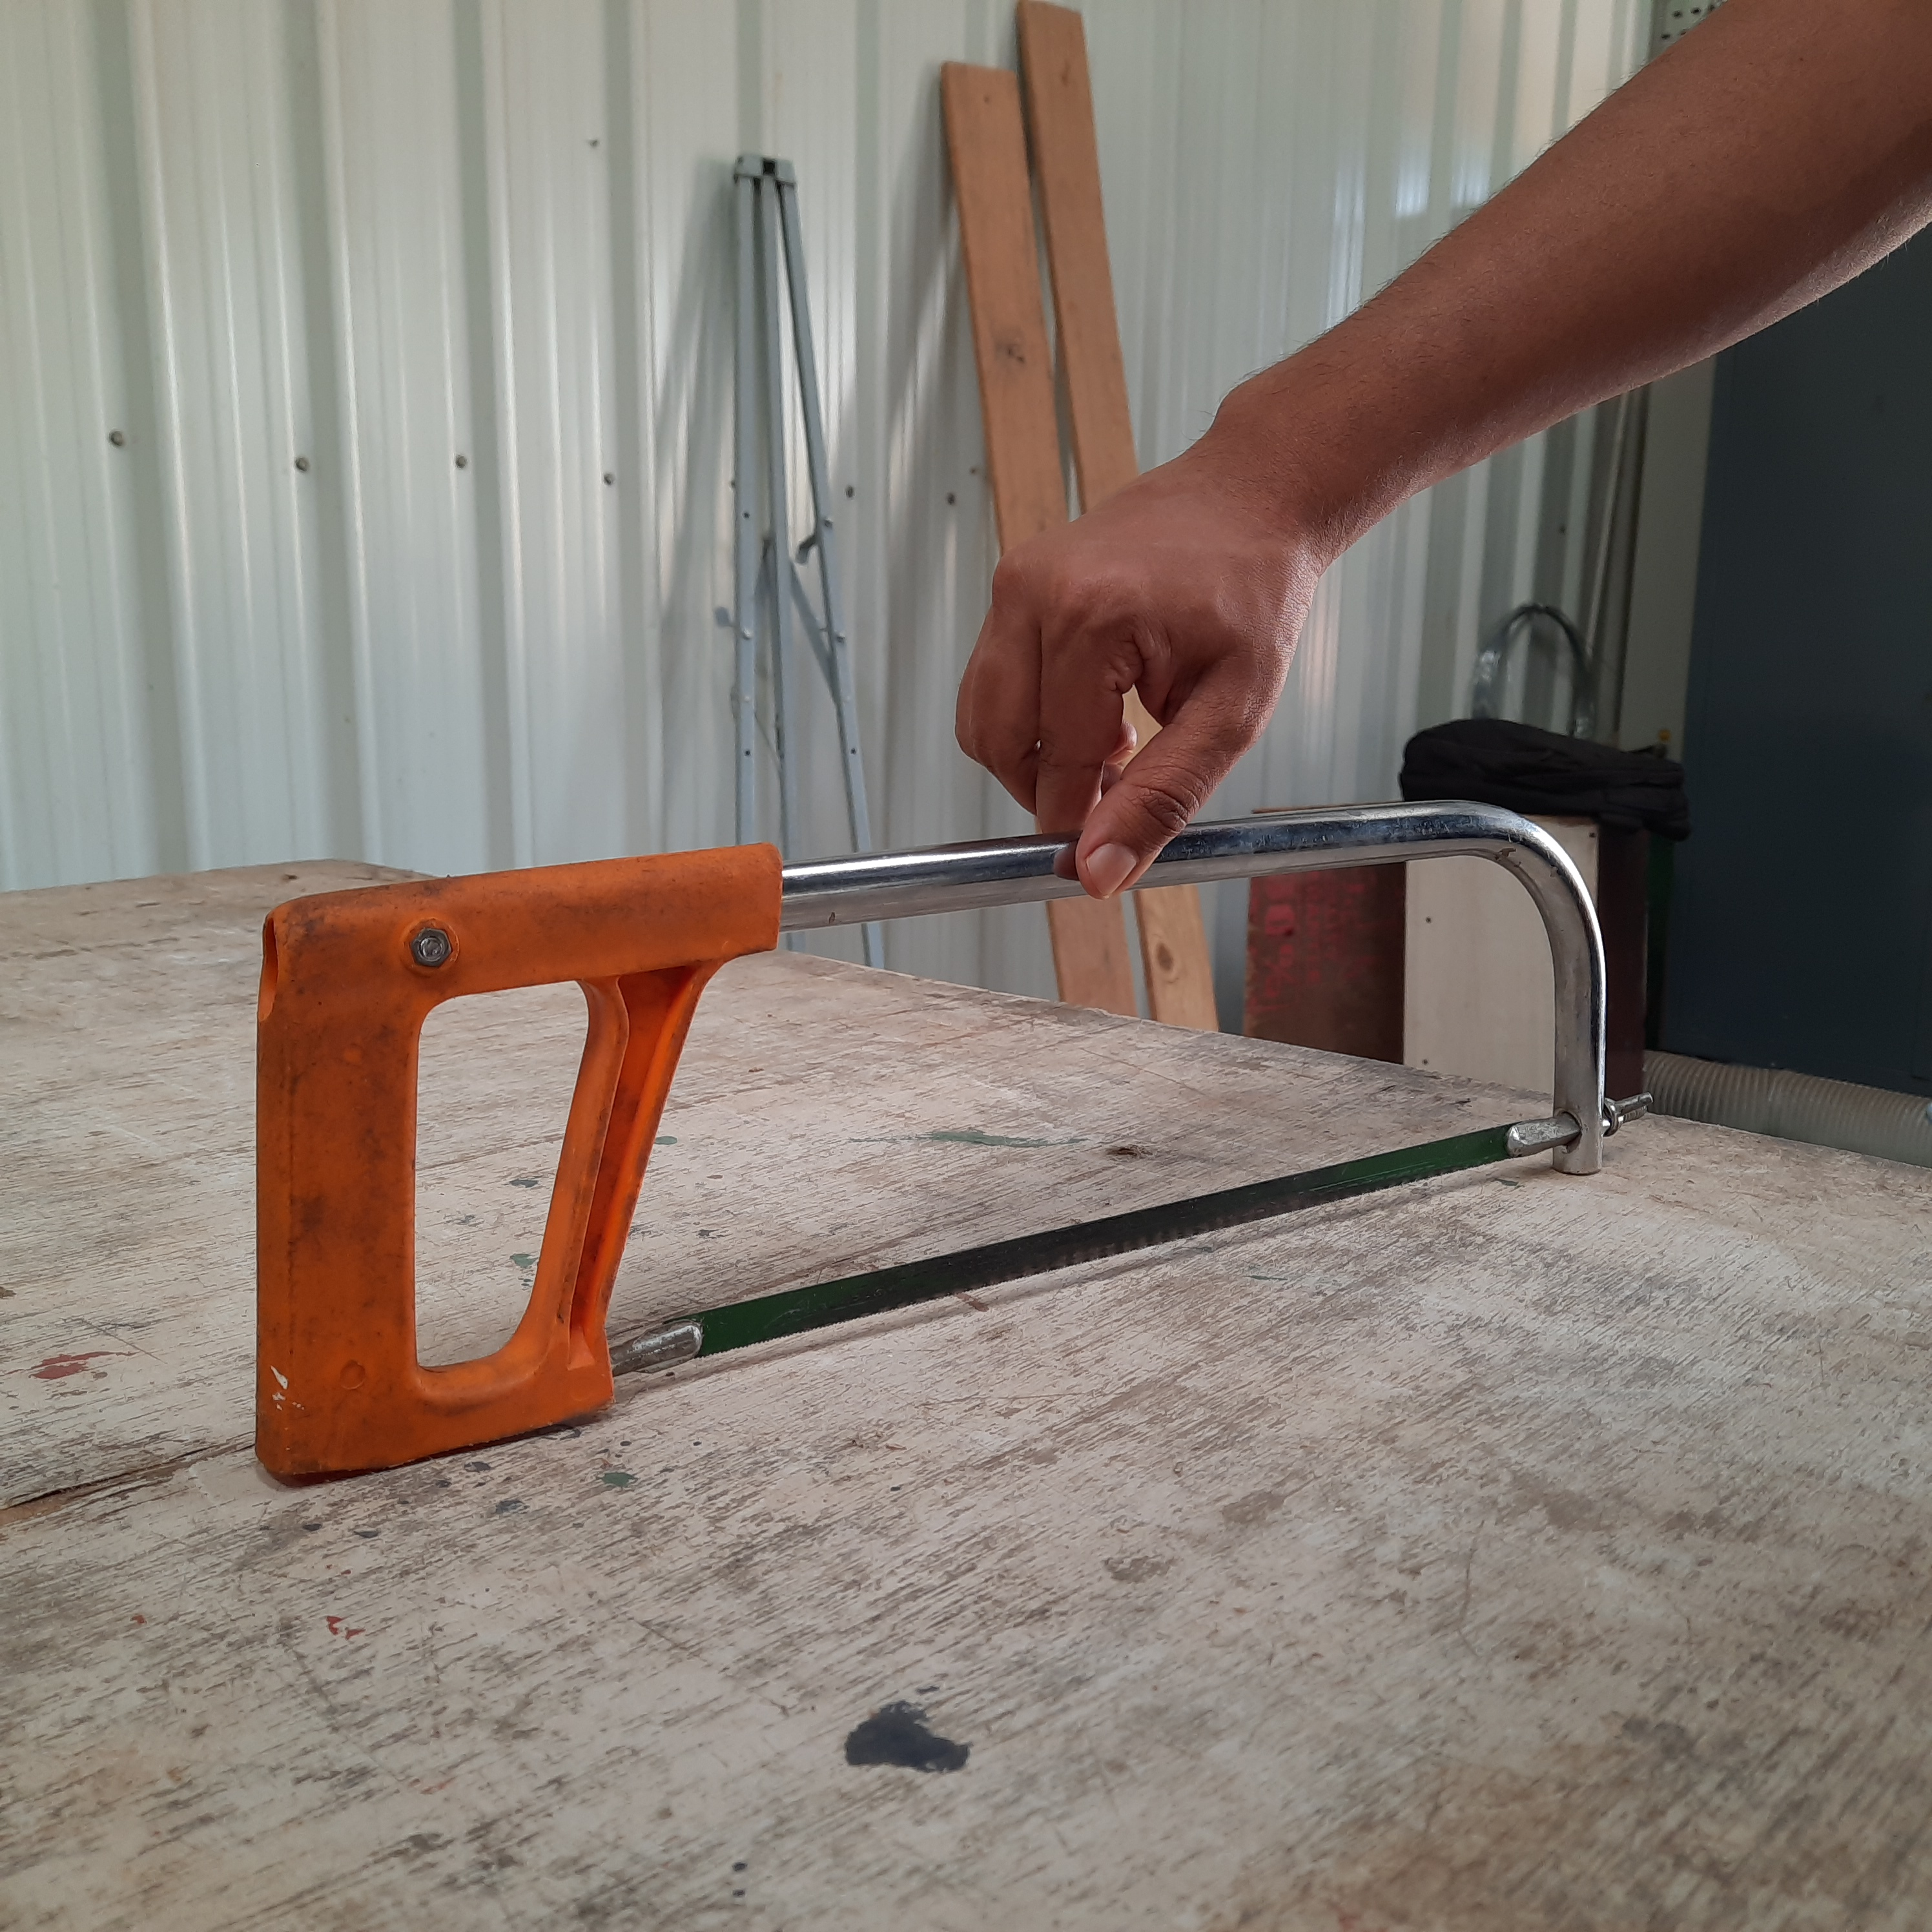Hexaframe: (223, 743, 1644, 1476)
